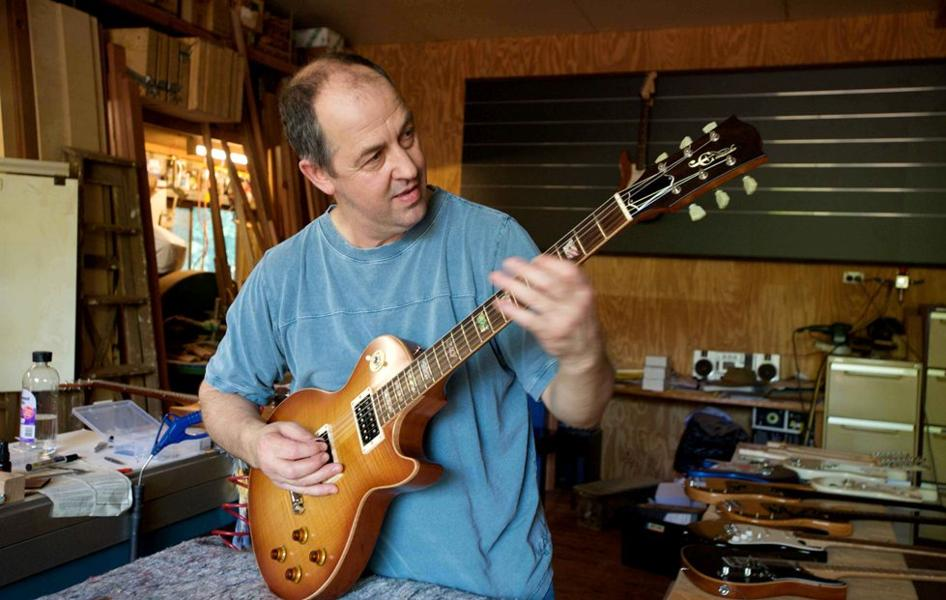person: (200, 54, 618, 600)
